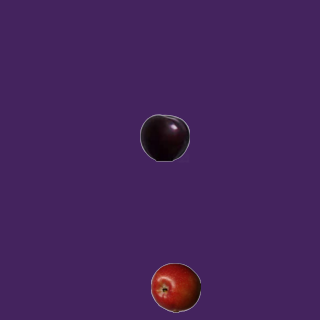Apple Braeburn: (150, 262, 200, 312)
Cherry Wax Black: (139, 112, 189, 162)
